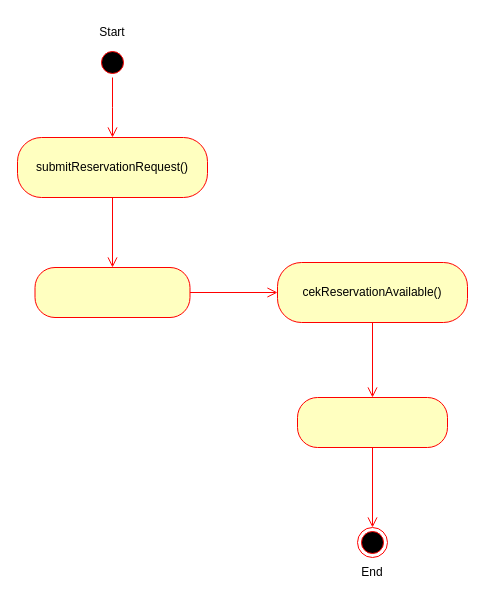
Image size: 485x604. Some labels were removed from this diagram. The box of each missing label's shape, as (x1, y1, x2, y2) in pixels:
createReservation(): (296, 396, 448, 448)
reservationController(): (34, 266, 190, 318)
